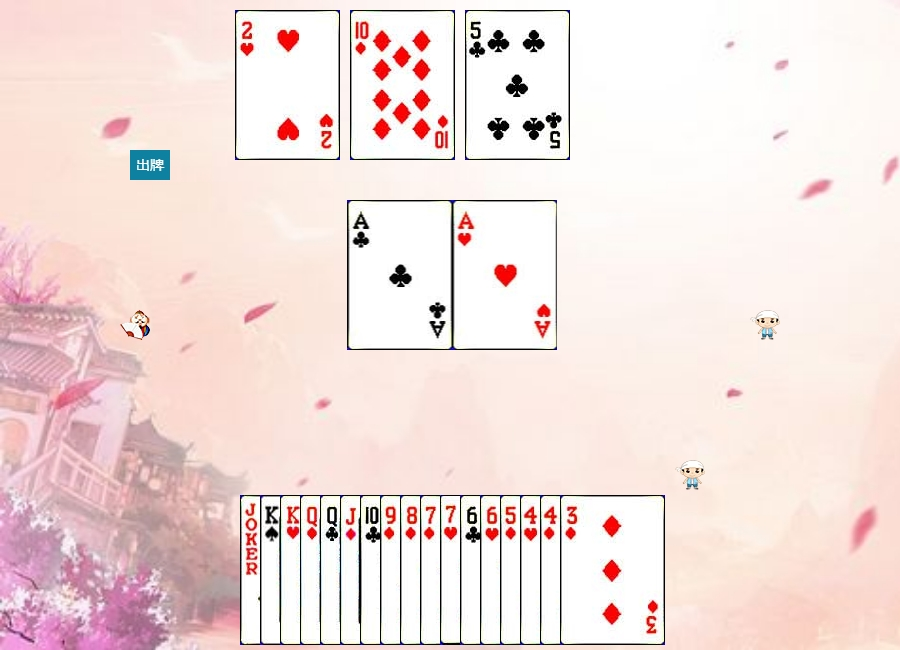10~1: (350, 10, 455, 160)
10~2: (360, 495, 465, 645)
11~1: (340, 495, 445, 645)
12~1: (300, 495, 405, 645)
12~2: (320, 495, 425, 645)
13~3: (280, 495, 385, 645)
13~4: (260, 495, 365, 645)
14~2: (348, 200, 453, 350)
14~3: (453, 200, 558, 350)
15~3: (235, 10, 340, 160)
18~4: (240, 495, 345, 645)
3~1: (560, 495, 665, 645)
4~1: (540, 495, 645, 645)
4~3: (520, 495, 625, 645)
5~1: (500, 495, 605, 645)
5~2: (465, 10, 570, 160)
6~2: (460, 495, 565, 645)
6~3: (480, 495, 585, 645)
7~1: (420, 495, 525, 645)
7~3: (440, 495, 545, 645)
8~1: (400, 495, 505, 645)
9~1: (380, 495, 485, 645)
